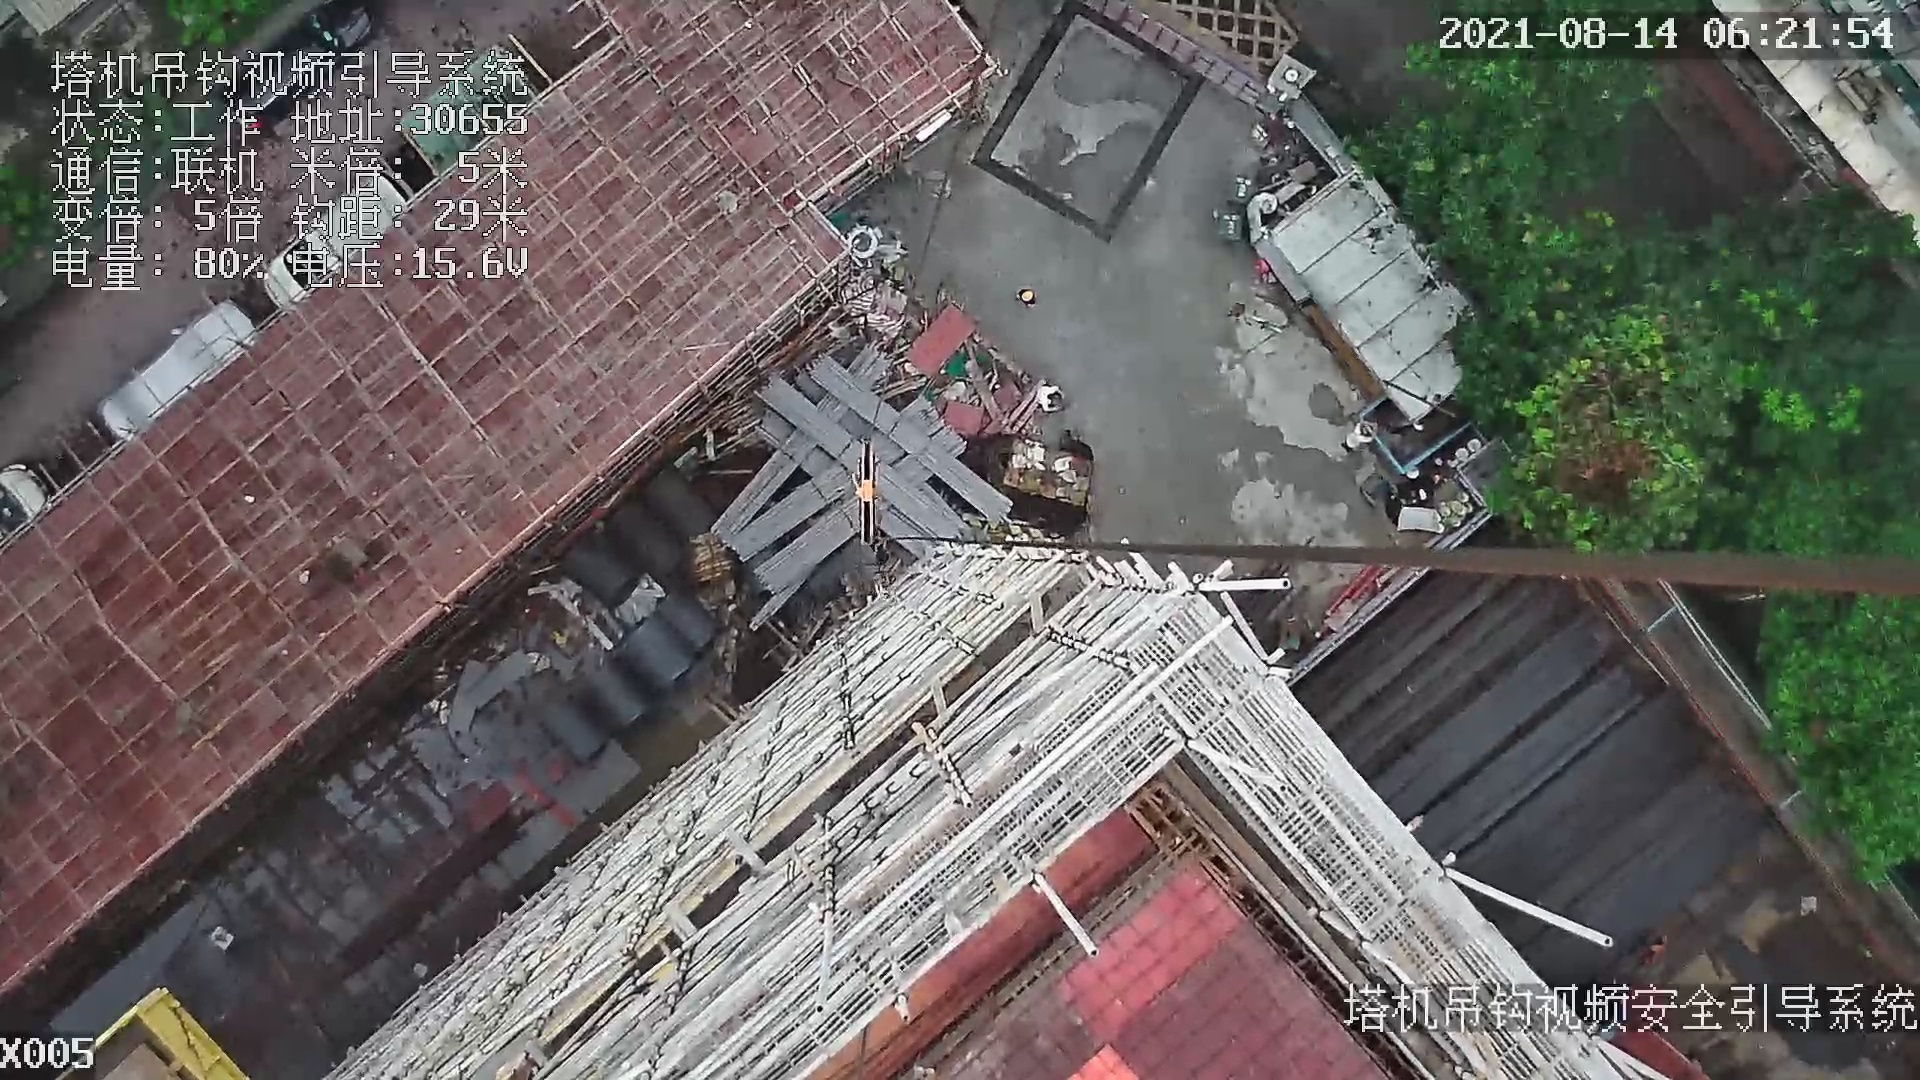hook: (847, 436, 884, 541)
rebar: (1382, 541, 1704, 935)
